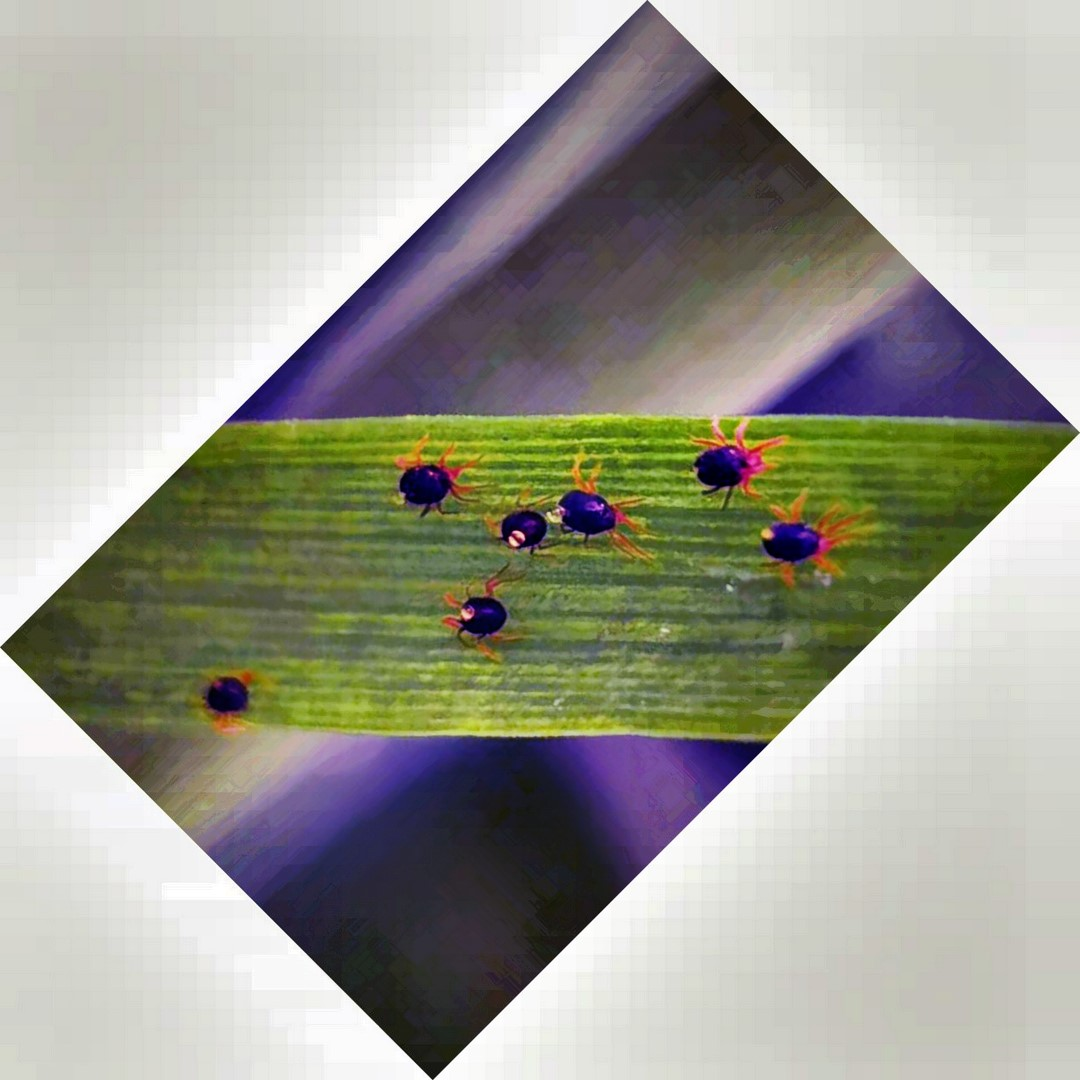Wheat Red Spider: (669, 408, 881, 597)
